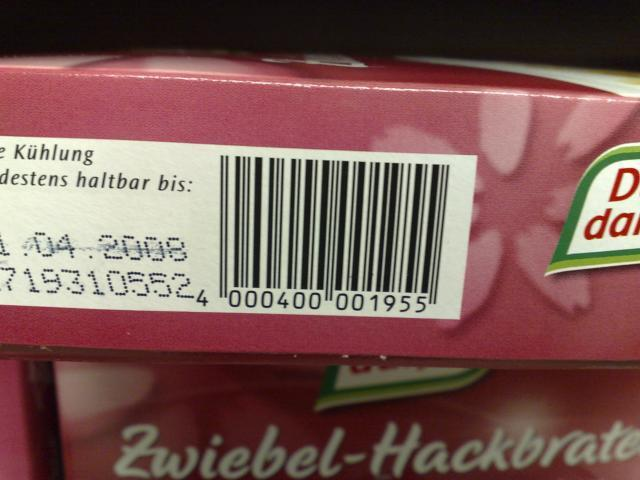Barcode: (193, 142, 478, 321)
